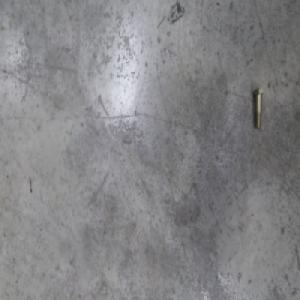Bolt: (253, 88, 264, 130)
